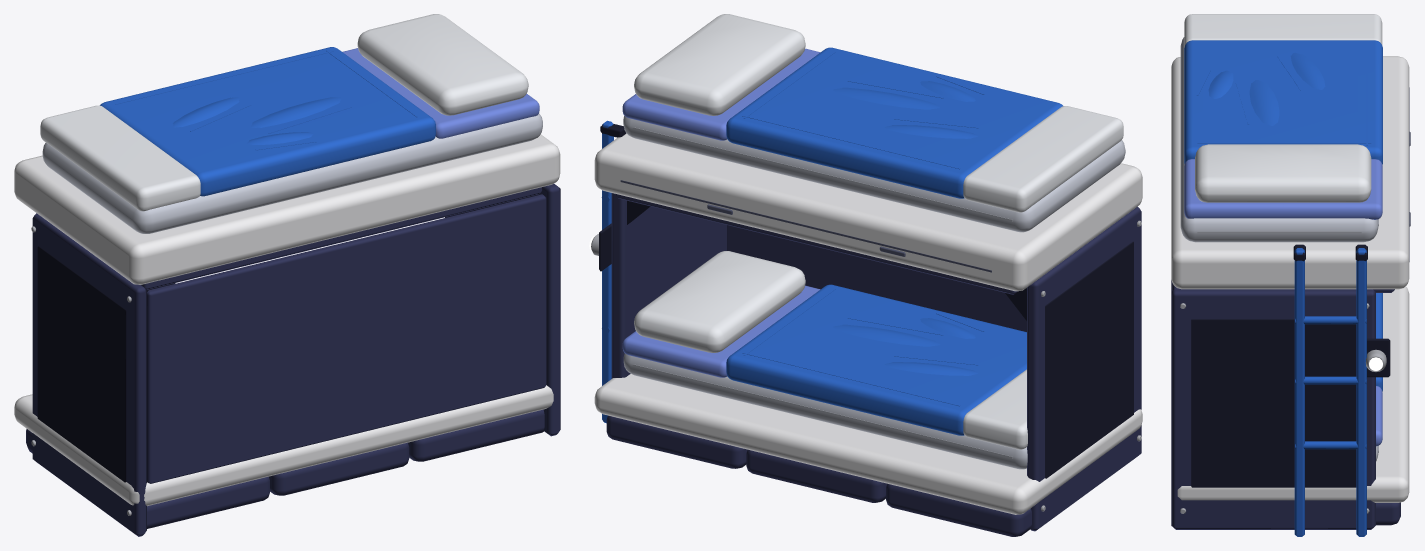
The model's file is prop.props_quarters.bunk_bed.glb.
The picture shows the model from 3 angles, left to right: view 1: azimuth 30°, elevation 25°; view 2: azimuth 150°, elevation 25°; view 3: azimuth 270°, elevation 25°; orthographic projection. The views are drawn at different scales.
Parts seen in each view (by area): view 1: prop.props_quarters.bunk_bed; view 2: prop.props_quarters.bunk_bed; view 3: prop.props_quarters.bunk_bed.
Boxes of the visible parts, bbox=[...] form: prop.props_quarters.bunk_bed: bbox=[14, 14, 560, 536]; prop.props_quarters.bunk_bed: bbox=[589, 14, 1142, 536]; prop.props_quarters.bunk_bed: bbox=[1171, 14, 1410, 536].
Bounding box in the file's own units: 2.07 × 1.61 × 1.01.
